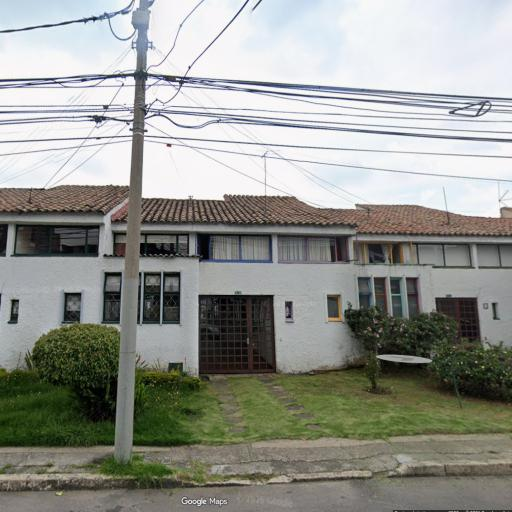Casa: (107, 192, 358, 384)
postes: (112, 0, 158, 469)
